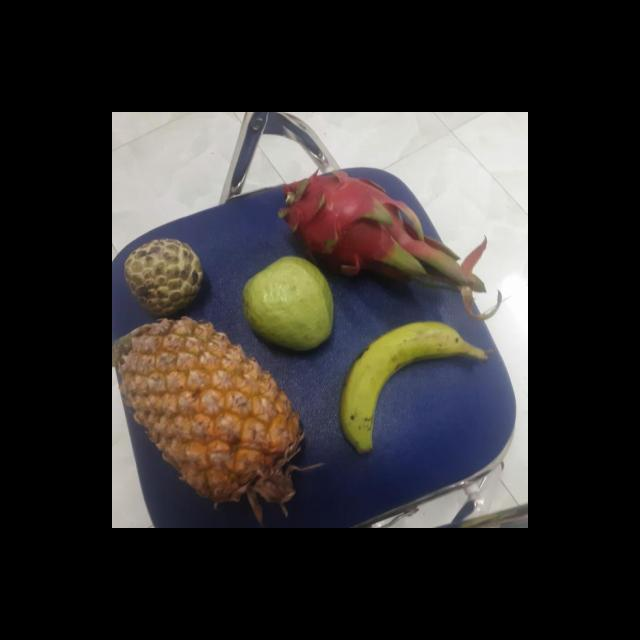Sakya fruit: (124, 239, 209, 317)
banana: (341, 322, 482, 446)
guava: (242, 257, 337, 351)
pineapple: (124, 324, 308, 498)
pitaya: (285, 168, 411, 280)
